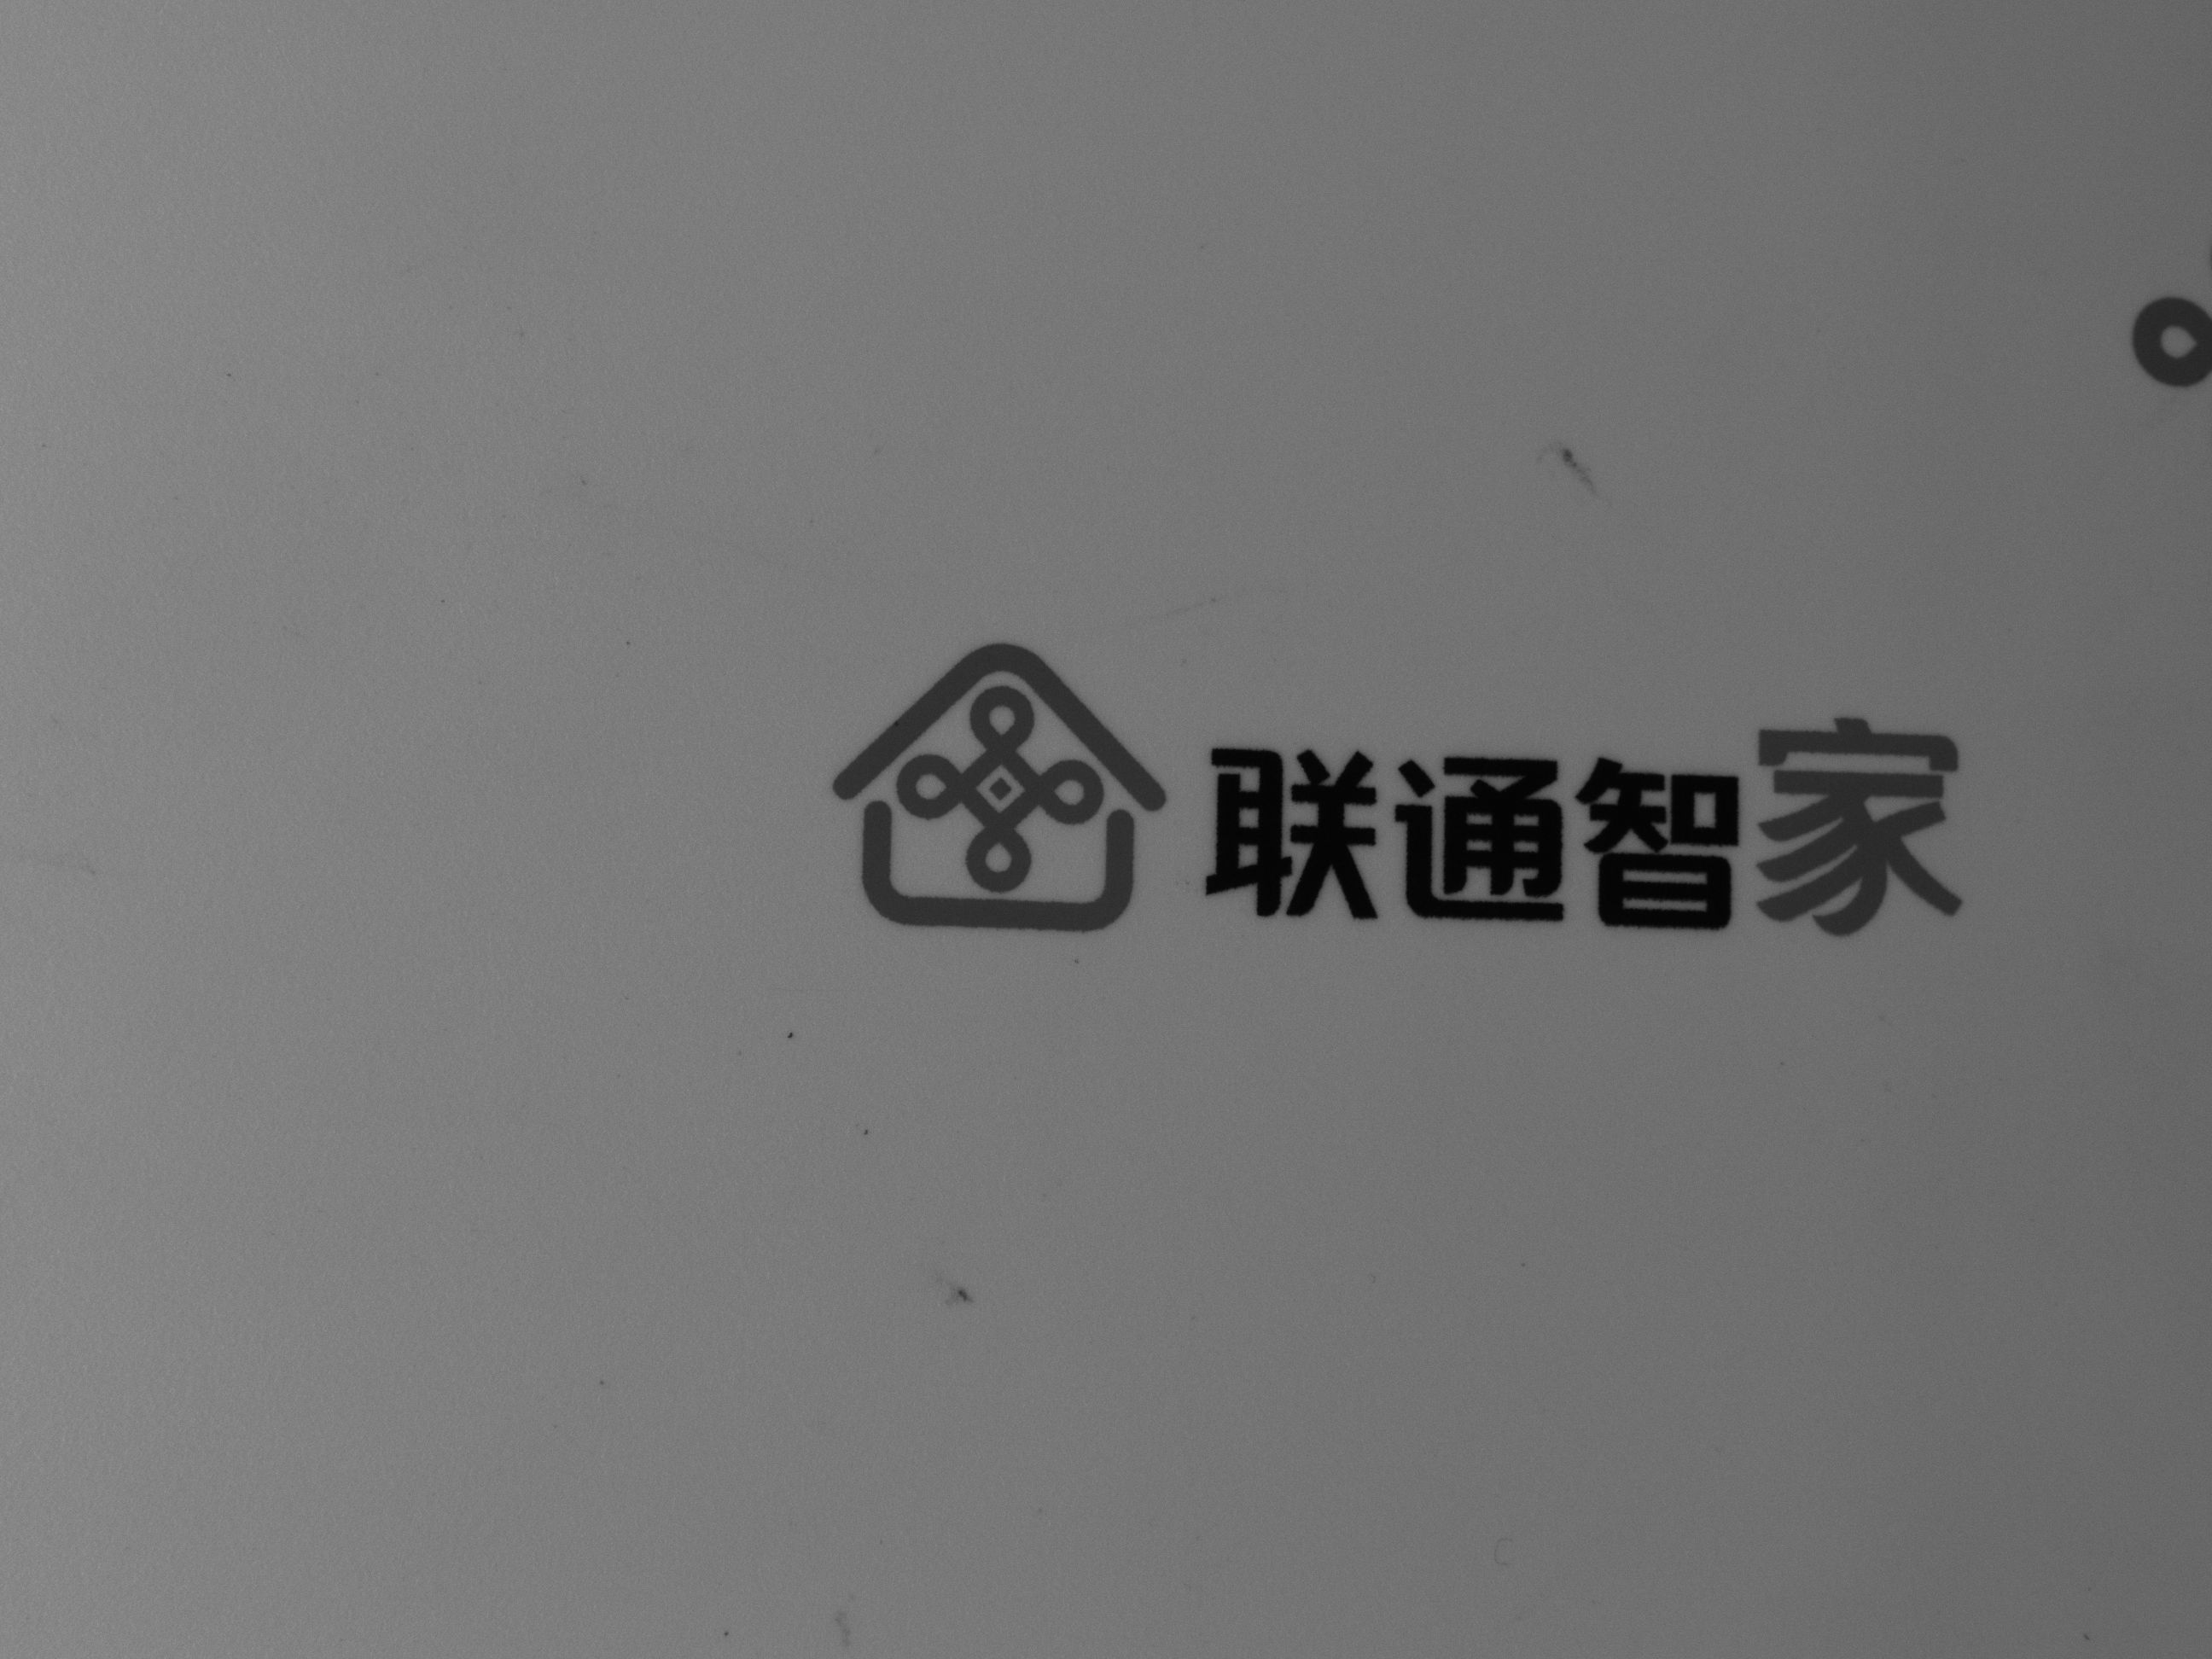BY_F6610Unicome: (773, 610, 1994, 953)
